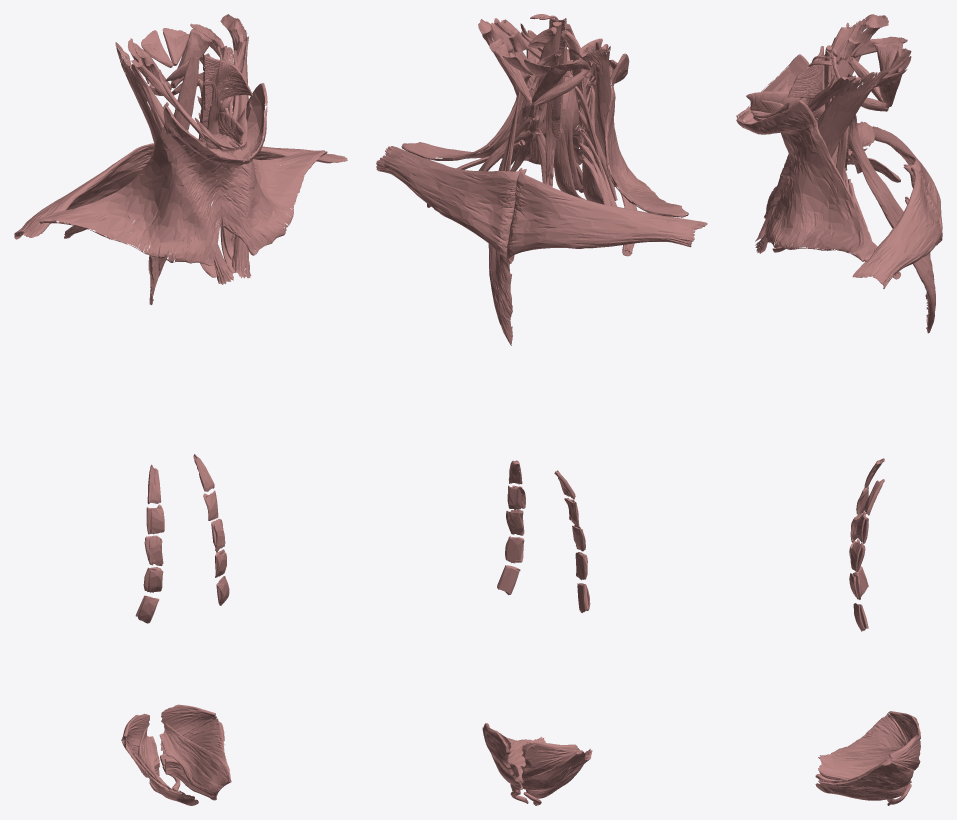
The model's file is muscular-04.glb.
3 views of the same model, side by side, from view 1: azimuth 30°, elevation 25°; view 2: azimuth 150°, elevation 25°; view 3: azimuth 270°, elevation 25° (orthographic).
Visible parts, largest first — view 1: FJ1587, FJ1558, FJ1554, FJ2545, FJ1595, FJ1573, FJ1548, FJ2747, FJ2544, FJ2542, FJ1548M, FJ1582 (+6 smaller); view 2: FJ1554, FJ1554M, FJ1587, FJ1546M, FJ1558, FJ1547M, FJ1595, FJ2547, FJ1573, FJ1547, FJ2549, FJ1575 (+8 smaller); view 3: FJ1558, FJ1554M, FJ1546M, FJ1573, FJ2550, FJ1587, FJ1554, FJ2544, FJ1595, FJ2549, FJ2546, FJ2747 (+11 smaller).
Part boxes in pixels (x1,y1,x2,y2): FJ1587: (38, 106, 247, 265); FJ1558: (219, 83, 327, 255); FJ1554: (14, 143, 154, 239); FJ2545: (159, 723, 230, 796); FJ1595: (115, 42, 233, 284); FJ1573: (220, 14, 251, 278); FJ1548: (138, 504, 164, 623); FJ2747: (202, 54, 252, 109); FJ2544: (160, 716, 230, 775); FJ2542: (160, 704, 216, 750); FJ1548M: (203, 493, 229, 605); FJ1582: (172, 57, 199, 131); FJ1554: (506, 168, 707, 259); FJ1554M: (376, 146, 526, 260); FJ1587: (580, 53, 688, 217); FJ1546M: (488, 48, 528, 345); FJ1558: (401, 30, 582, 167); FJ1547M: (497, 460, 523, 593); FJ1595: (582, 46, 611, 164); FJ2547: (521, 742, 577, 779); FJ1573: (478, 18, 583, 192); FJ1547: (554, 470, 588, 610); FJ2549: (521, 746, 590, 789); FJ1575: (553, 117, 584, 199); FJ1558: (736, 101, 874, 261); FJ1554M: (852, 164, 942, 288); FJ1546M: (847, 114, 935, 333); FJ1573: (755, 69, 888, 253); FJ2550: (818, 745, 903, 780); FJ1587: (736, 54, 874, 218); FJ1554: (857, 123, 942, 245); FJ2544: (832, 756, 913, 790); FJ1595: (755, 14, 888, 241); FJ2549: (848, 713, 907, 746); FJ2546: (815, 779, 906, 800); FJ2747: (787, 46, 823, 98).
Size of the model in its own units: 0.3265 by 0.7496 by 0.1842.
